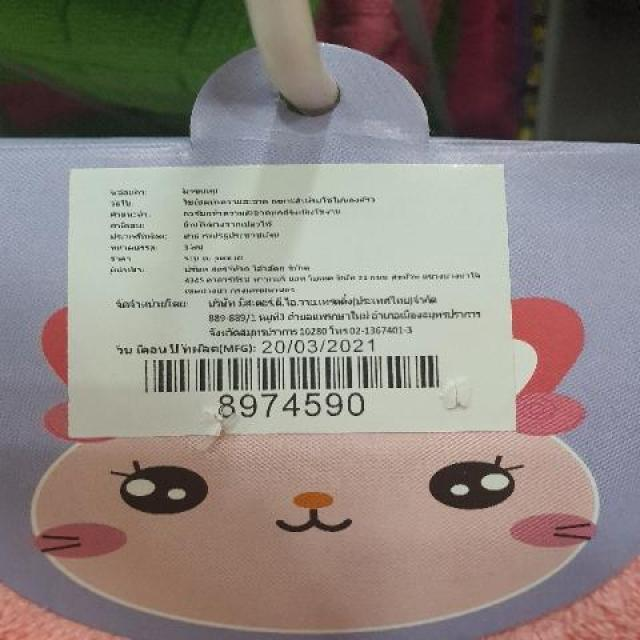Barcode: (123, 350, 461, 419)
